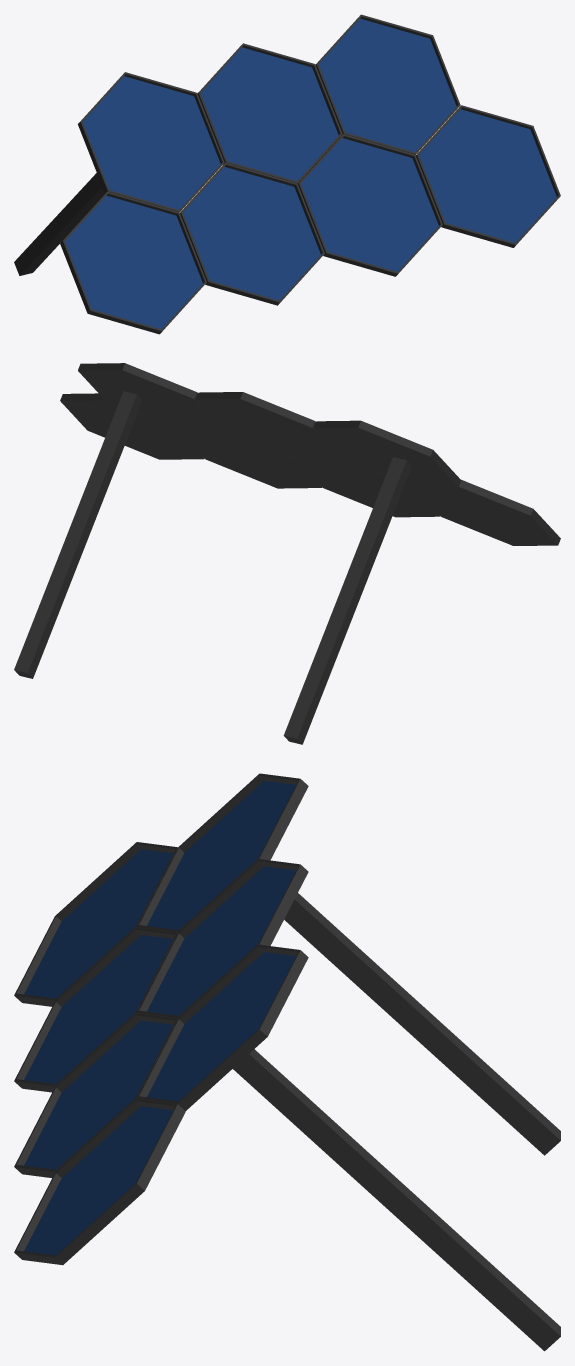
The model's file is SolarPanelsHex.fbx.
3 views of the same model, one above another, from view 1: azimuth 30°, elevation 25°; view 2: azimuth 150°, elevation 25°; view 3: azimuth 270°, elevation 25° (orthographic). The views are drawn at different scales.
Parts seen in each view (by area): view 1: Cube; view 2: Cube; view 3: Cube.
Part boxes in pixels (x1,y1,x2,y2): Cube: (14, 14, 560, 334); Cube: (14, 363, 560, 744); Cube: (14, 773, 560, 1351).
Size of the model in its own units: 698 by 366 by 472.
